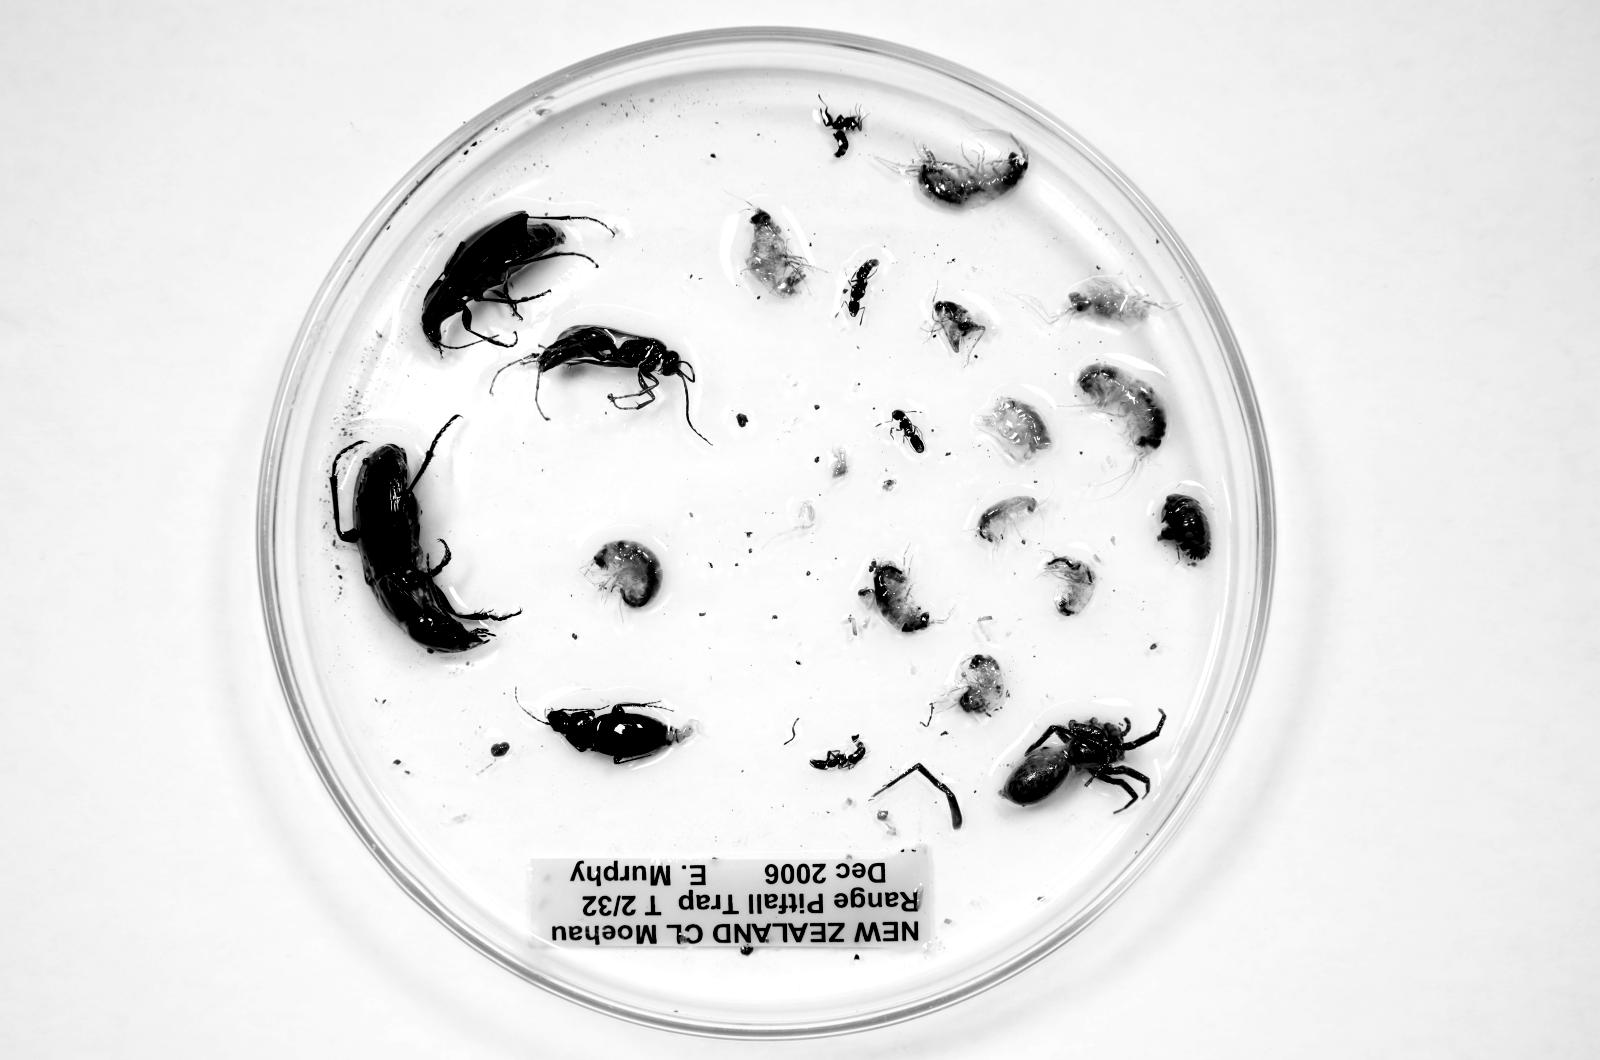amphipoda: (876, 141, 1028, 207), (1076, 362, 1166, 460), (746, 208, 808, 298), (1065, 277, 1179, 325), (584, 539, 662, 609), (931, 653, 1008, 716), (868, 561, 932, 633), (1044, 556, 1096, 615)
araneae: (1001, 710, 1166, 811)
carabidae: (328, 415, 522, 652), (422, 212, 581, 351), (546, 701, 697, 764)
formicidae: (818, 106, 863, 158), (809, 735, 866, 770), (846, 258, 879, 316), (892, 410, 926, 453)
hymenoptera: (531, 325, 695, 410)
isopoda: (1159, 494, 1211, 565)
orthoptera: (976, 496, 1038, 550), (932, 301, 985, 353)
